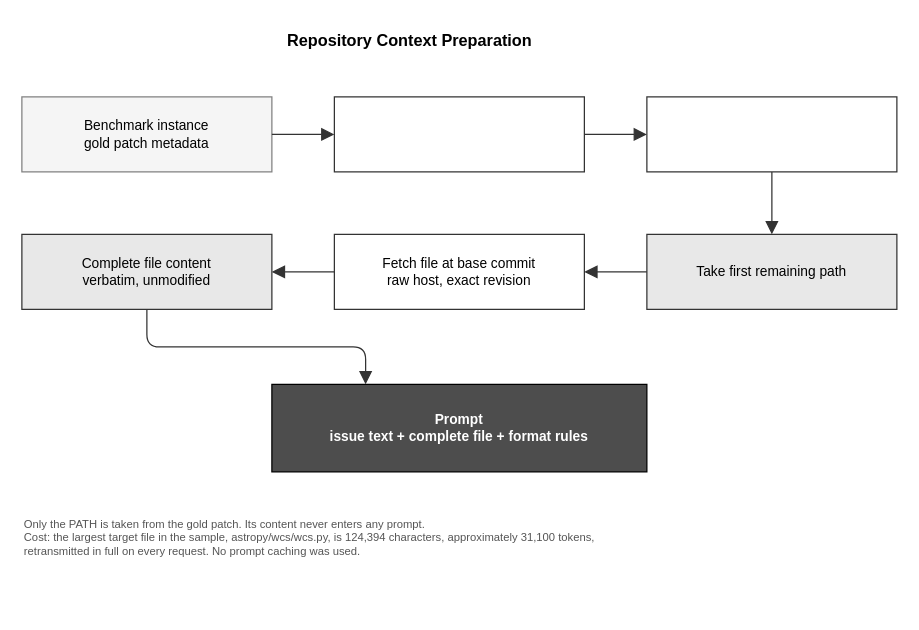
Image size: 919x630. Some labels were removed from this diagram. The centre of each missing label's shape, as x and y in pixels:
Discard paths containing "test": pixel 771 134
Extract source paths regex on diff headers: pixel 458 134
